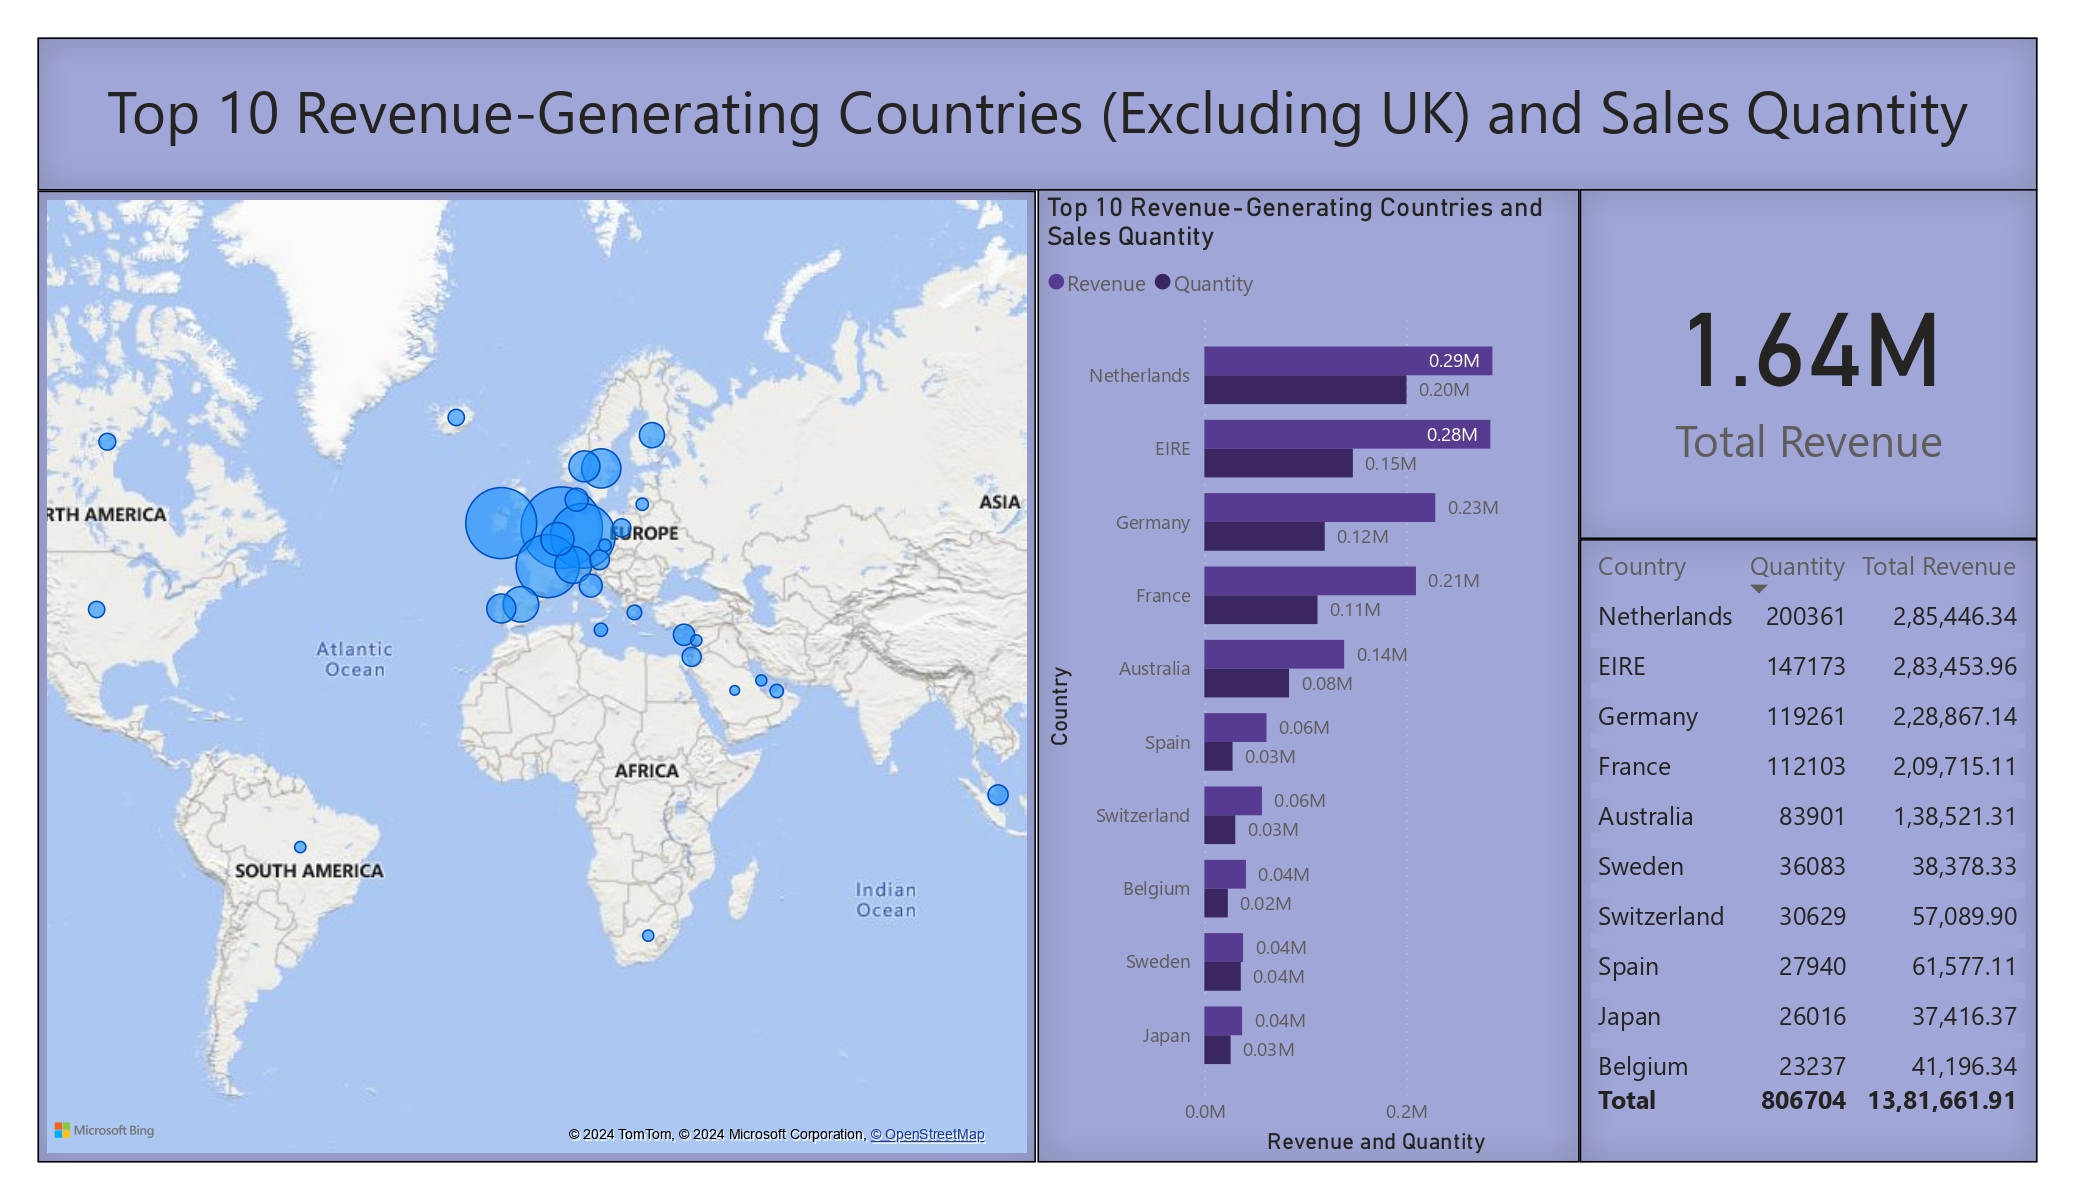

The dashboard page shown, as its layout file describes it:
{"tool":"powerbi","page":{"name":"Q2","canvas":[1280,720],"ordinal":1},"visuals":[{"type":"textbox","box":[0,0,1280,97.7],"z":0},{"type":"map","fields":{"Category":["Online Retail.Country"],"Size":["Sum(Online Retail.Quantity)"]},"box":[0,97.7,639.4,622.5],"z":1000},{"type":"tableEx","fields":{"Values":["Online Retail.Country","Sum(Online Retail.Quantity)","Sum(Online Retail.Total)"]},"box":[987.1,321.4,292.9,398.6],"z":2000},{"type":"card","fields":{"Values":["Sum(Online Retail.Total)"]},"box":[987.1,97.1,292.9,224.3],"z":4000},{"type":"clusteredBarChart","title":"Top 10 Revenue-Generating Countries and Sales Quantity","fields":{"Category":["Online Retail.Country"],"Y":["Sum(Online Retail.Total)","Sum(Online Retail.Quantity)"]},"box":[640,97.1,347.1,622.9],"z":5000}]}

Visuals, with their boxes in screenshot pixels (x1, y1, x2, y2):
textbox: (x1=38, y1=38, x2=2038, y2=190)
map - Online Retail.Country x Sum(Online Retail.Quantity): (x1=38, y1=190, x2=1037, y2=1162)
tableEx - Online Retail.Country x Sum(Online Retail.Quantity): (x1=1580, y1=540, x2=2038, y2=1162)
card - Sum(Online Retail.Total): (x1=1580, y1=189, x2=2038, y2=540)
"Top 10 Revenue-Generating Countries and Sales Quantity" clusteredBarChart: (x1=1038, y1=189, x2=1580, y2=1162)
